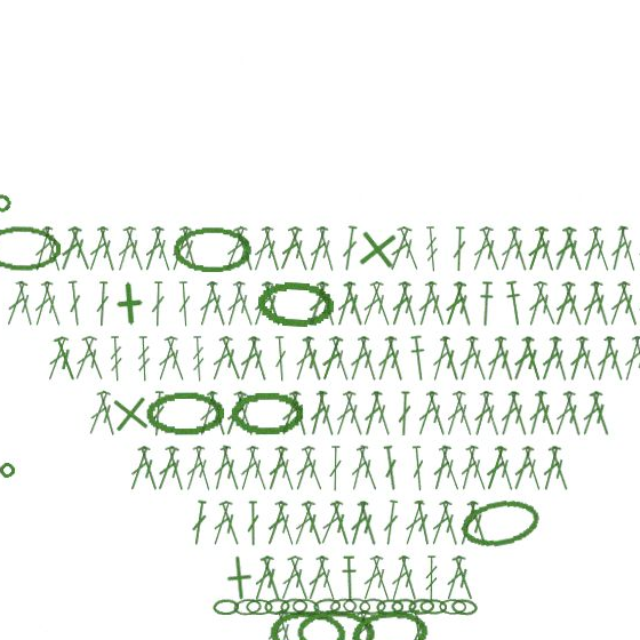chain: (414, 439, 490, 491), (320, 538, 391, 583), (237, 251, 307, 294), (249, 539, 318, 582), (273, 540, 342, 581), (165, 205, 235, 245), (141, 349, 210, 389), (0, 204, 67, 245), (215, 349, 281, 389), (218, 530, 243, 546), (269, 530, 294, 546), (408, 530, 432, 546), (302, 530, 327, 545), (259, 530, 283, 545), (288, 530, 312, 545), (314, 530, 338, 545), (328, 530, 352, 545), (245, 530, 268, 545), (356, 530, 379, 545), (371, 530, 394, 545), (272, 626, 296, 640), (310, 626, 334, 640), (229, 531, 253, 545), (343, 531, 367, 545), (381, 531, 405, 545), (398, 531, 422, 545), (321, 626, 344, 640), (200, 531, 223, 545), (292, 627, 316, 640), (333, 627, 357, 640)
double: (58, 300, 85, 342), (350, 204, 377, 246), (574, 204, 601, 246), (290, 444, 317, 485), (478, 252, 505, 293), (254, 204, 281, 245), (311, 588, 337, 630), (255, 492, 281, 534), (147, 396, 173, 438), (275, 396, 301, 438), (323, 396, 349, 438), (395, 396, 421, 438), (51, 300, 77, 342), (291, 300, 317, 342), (15, 252, 41, 294), (399, 252, 425, 294), (471, 204, 497, 246), (495, 204, 521, 246), (87, 348, 113, 389), (75, 300, 101, 341), (83, 300, 109, 341), (203, 300, 229, 341), (71, 204, 97, 245), (207, 204, 233, 245), (359, 204, 385, 245), (279, 588, 304, 630), (303, 588, 328, 630), (335, 588, 360, 630), (243, 540, 268, 582), (239, 492, 264, 534), (263, 492, 288, 534), (279, 492, 304, 534), (327, 492, 352, 534), (335, 492, 360, 534), (407, 492, 432, 534), (203, 444, 228, 486), (243, 444, 268, 486), (267, 444, 292, 486), (275, 444, 300, 486), (387, 444, 412, 486), (123, 396, 148, 438), (227, 396, 252, 438), (419, 396, 444, 438), (435, 396, 460, 438), (459, 396, 484, 438), (491, 396, 516, 438), (207, 348, 232, 390), (303, 348, 328, 390), (311, 348, 336, 390), (375, 348, 400, 390), (407, 348, 432, 390), (431, 348, 456, 390), (479, 348, 504, 390), (495, 348, 520, 390), (519, 348, 544, 390), (527, 348, 552, 390), (155, 300, 180, 342), (195, 300, 220, 342), (219, 300, 244, 342), (299, 300, 324, 342), (419, 300, 444, 342), (459, 300, 484, 342), (483, 300, 508, 342), (515, 300, 540, 342), (47, 252, 72, 294), (215, 252, 240, 294), (231, 252, 256, 294), (327, 252, 352, 294), (335, 252, 360, 294), (383, 252, 408, 294), (495, 252, 520, 294), (503, 252, 528, 294), (519, 252, 544, 294), (543, 252, 568, 294), (63, 204, 88, 246), (87, 204, 112, 246), (119, 204, 144, 246), (231, 204, 256, 246), (263, 204, 288, 246), (423, 204, 448, 246), (431, 204, 456, 246), (447, 204, 472, 246), (479, 204, 504, 246), (503, 204, 528, 246), (527, 204, 552, 246), (288, 588, 312, 630), (328, 588, 352, 630), (252, 540, 276, 582), (316, 540, 340, 582), (324, 540, 348, 582), (232, 492, 256, 534), (288, 492, 312, 534), (400, 492, 424, 534), (196, 444, 220, 486), (252, 444, 276, 486), (300, 444, 324, 486), (324, 444, 348, 486), (364, 444, 388, 486), (420, 444, 444, 486), (132, 396, 156, 438), (172, 396, 196, 438), (204, 396, 228, 438), (244, 396, 268, 438), (252, 396, 276, 438), (268, 396, 292, 438), (444, 396, 468, 438), (468, 396, 492, 438), (192, 348, 216, 390), (216, 348, 240, 390), (256, 348, 280, 390), (336, 348, 360, 390), (384, 348, 408, 390), (400, 348, 424, 390), (424, 348, 448, 390), (456, 348, 480, 390), (148, 300, 172, 342), (228, 300, 252, 342), (268, 300, 292, 342), (276, 300, 300, 342), (316, 300, 340, 342), (324, 300, 348, 342), (340, 300, 364, 342), (396, 300, 420, 342), (436, 300, 460, 342), (444, 300, 468, 342), (468, 300, 492, 342), (540, 300, 564, 342), (192, 252, 216, 294), (240, 252, 264, 294), (280, 252, 304, 294), (288, 252, 312, 294), (304, 252, 328, 294), (312, 252, 336, 294), (352, 252, 376, 294), (552, 252, 576, 294), (568, 252, 592, 294), (576, 252, 600, 294), (600, 252, 624, 294), (48, 204, 72, 246), (112, 204, 136, 246), (136, 204, 160, 246), (144, 204, 168, 246), (160, 204, 184, 246), (216, 204, 240, 246), (280, 204, 304, 246), (456, 204, 480, 246), (592, 204, 616, 246), (616, 204, 640, 246), (352, 492, 375, 534), (360, 492, 383, 534), (316, 444, 339, 486), (396, 444, 419, 486), (412, 444, 435, 486), (156, 396, 179, 438), (180, 396, 203, 438), (220, 396, 243, 438), (96, 348, 119, 390), (184, 348, 207, 390), (264, 348, 287, 390), (288, 348, 311, 390), (328, 348, 351, 390), (448, 348, 471, 390), (504, 348, 527, 390), (348, 300, 371, 342), (388, 300, 411, 342), (412, 300, 435, 342), (492, 300, 515, 342), (508, 300, 531, 342), (532, 300, 555, 342), (556, 300, 579, 342), (564, 300, 587, 342), (40, 252, 63, 294), (184, 252, 207, 294), (208, 252, 231, 294), (360, 252, 383, 294), (376, 252, 399, 294), (408, 252, 431, 294), (472, 252, 495, 294), (528, 252, 551, 294), (592, 252, 615, 294), (40, 204, 63, 246), (96, 204, 119, 246), (168, 204, 191, 246), (240, 204, 263, 246), (288, 204, 311, 246), (520, 204, 543, 246), (552, 204, 575, 246), (600, 204, 623, 246), (485, 396, 507, 438), (197, 396, 219, 437), (317, 396, 339, 437), (389, 396, 411, 437), (413, 396, 435, 437), (281, 348, 303, 389), (473, 348, 495, 389), (25, 252, 47, 293), (545, 204, 566, 245), (569, 204, 590, 245), (374, 444, 394, 485), (371, 540, 389, 581), (179, 444, 197, 485), (347, 444, 365, 485), (347, 396, 365, 437), (311, 204, 329, 245), (623, 204, 640, 246), (71, 252, 88, 293), (372, 397, 388, 437), (144, 349, 160, 389), (252, 301, 267, 341), (96, 253, 111, 293), (168, 253, 183, 293), (361, 349, 375, 389), (145, 253, 159, 293), (409, 205, 423, 245), (229, 445, 242, 485), (301, 397, 314, 437)
half_double: (370, 300, 390, 341), (454, 252, 474, 293), (0, 204, 18, 245), (311, 493, 328, 533), (431, 253, 448, 293)
noise: (5, 174, 26, 195), (0, 232, 13, 252), (12, 410, 28, 426)
single: (106, 347, 150, 391), (322, 203, 366, 247), (202, 491, 245, 534), (106, 251, 149, 294)
treble: (384, 205, 400, 245), (108, 301, 123, 341), (180, 301, 195, 341), (133, 301, 147, 341), (385, 493, 398, 533)
